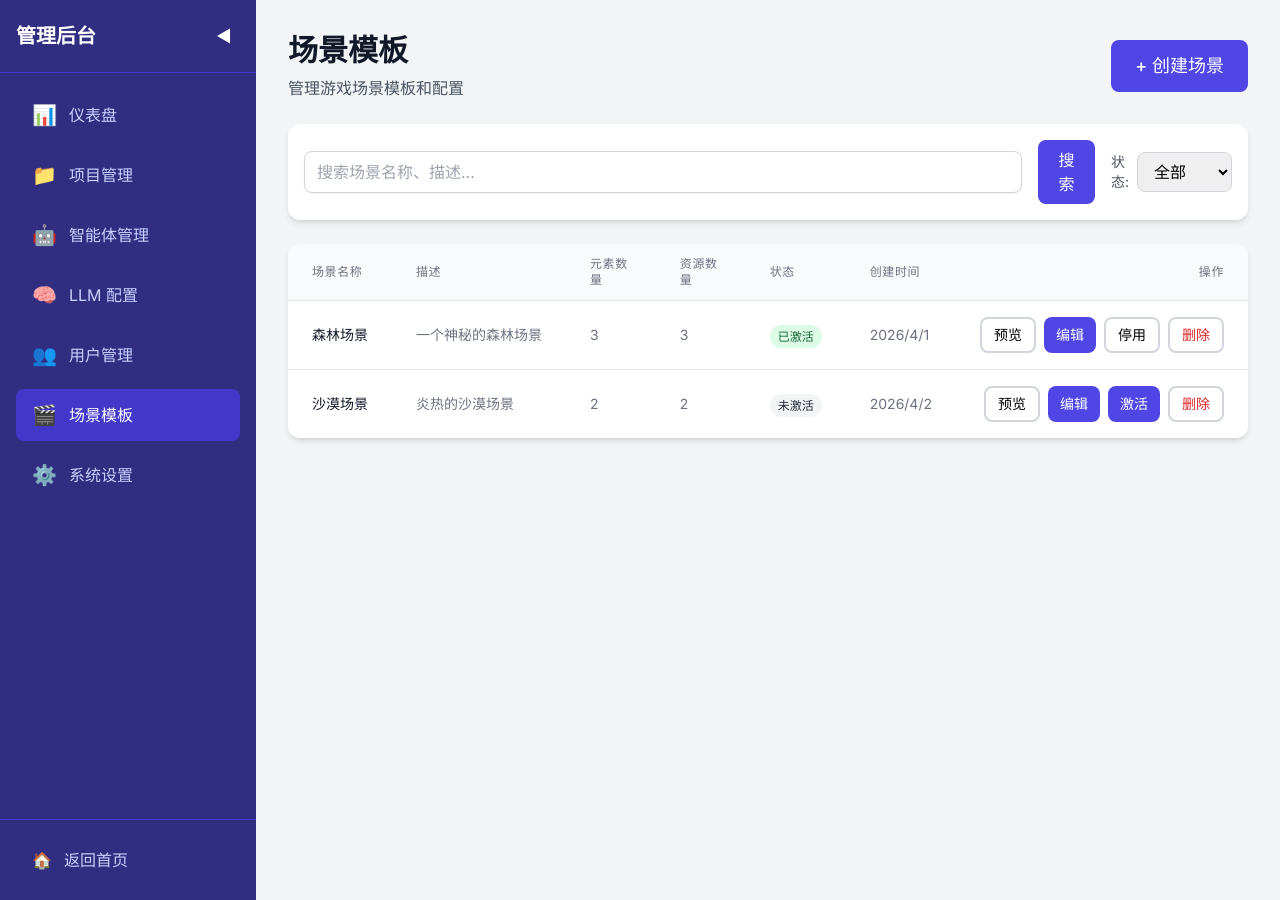
it: ScenesPage › 创建新场景功能 › 应该显示创建场景模态框
Click the button "+ 创建场景": click(1180, 66) [1111, 40, 1248, 92]
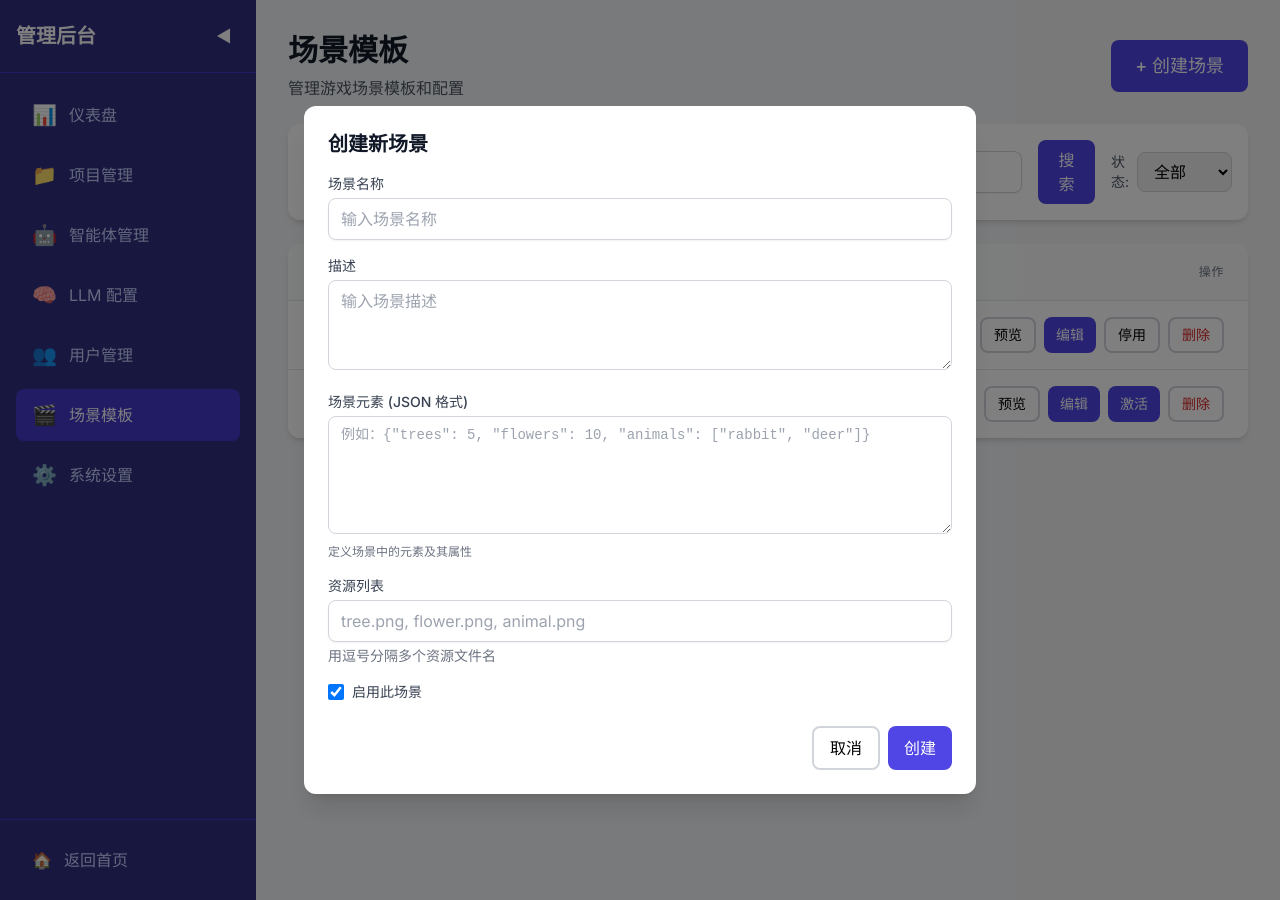
expect the heading "创建新场景" is shown: met, box [328, 132, 428, 156]
